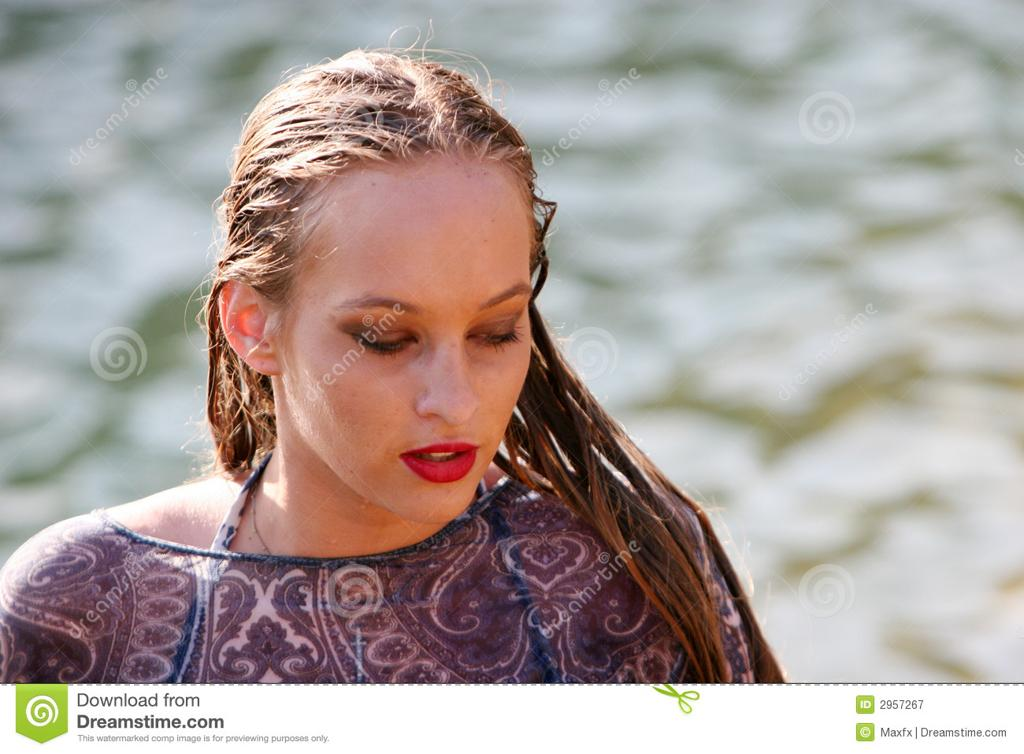face: (290, 188, 534, 522)
